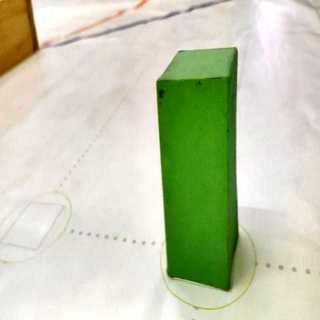greenbox: (156, 46, 240, 292)
